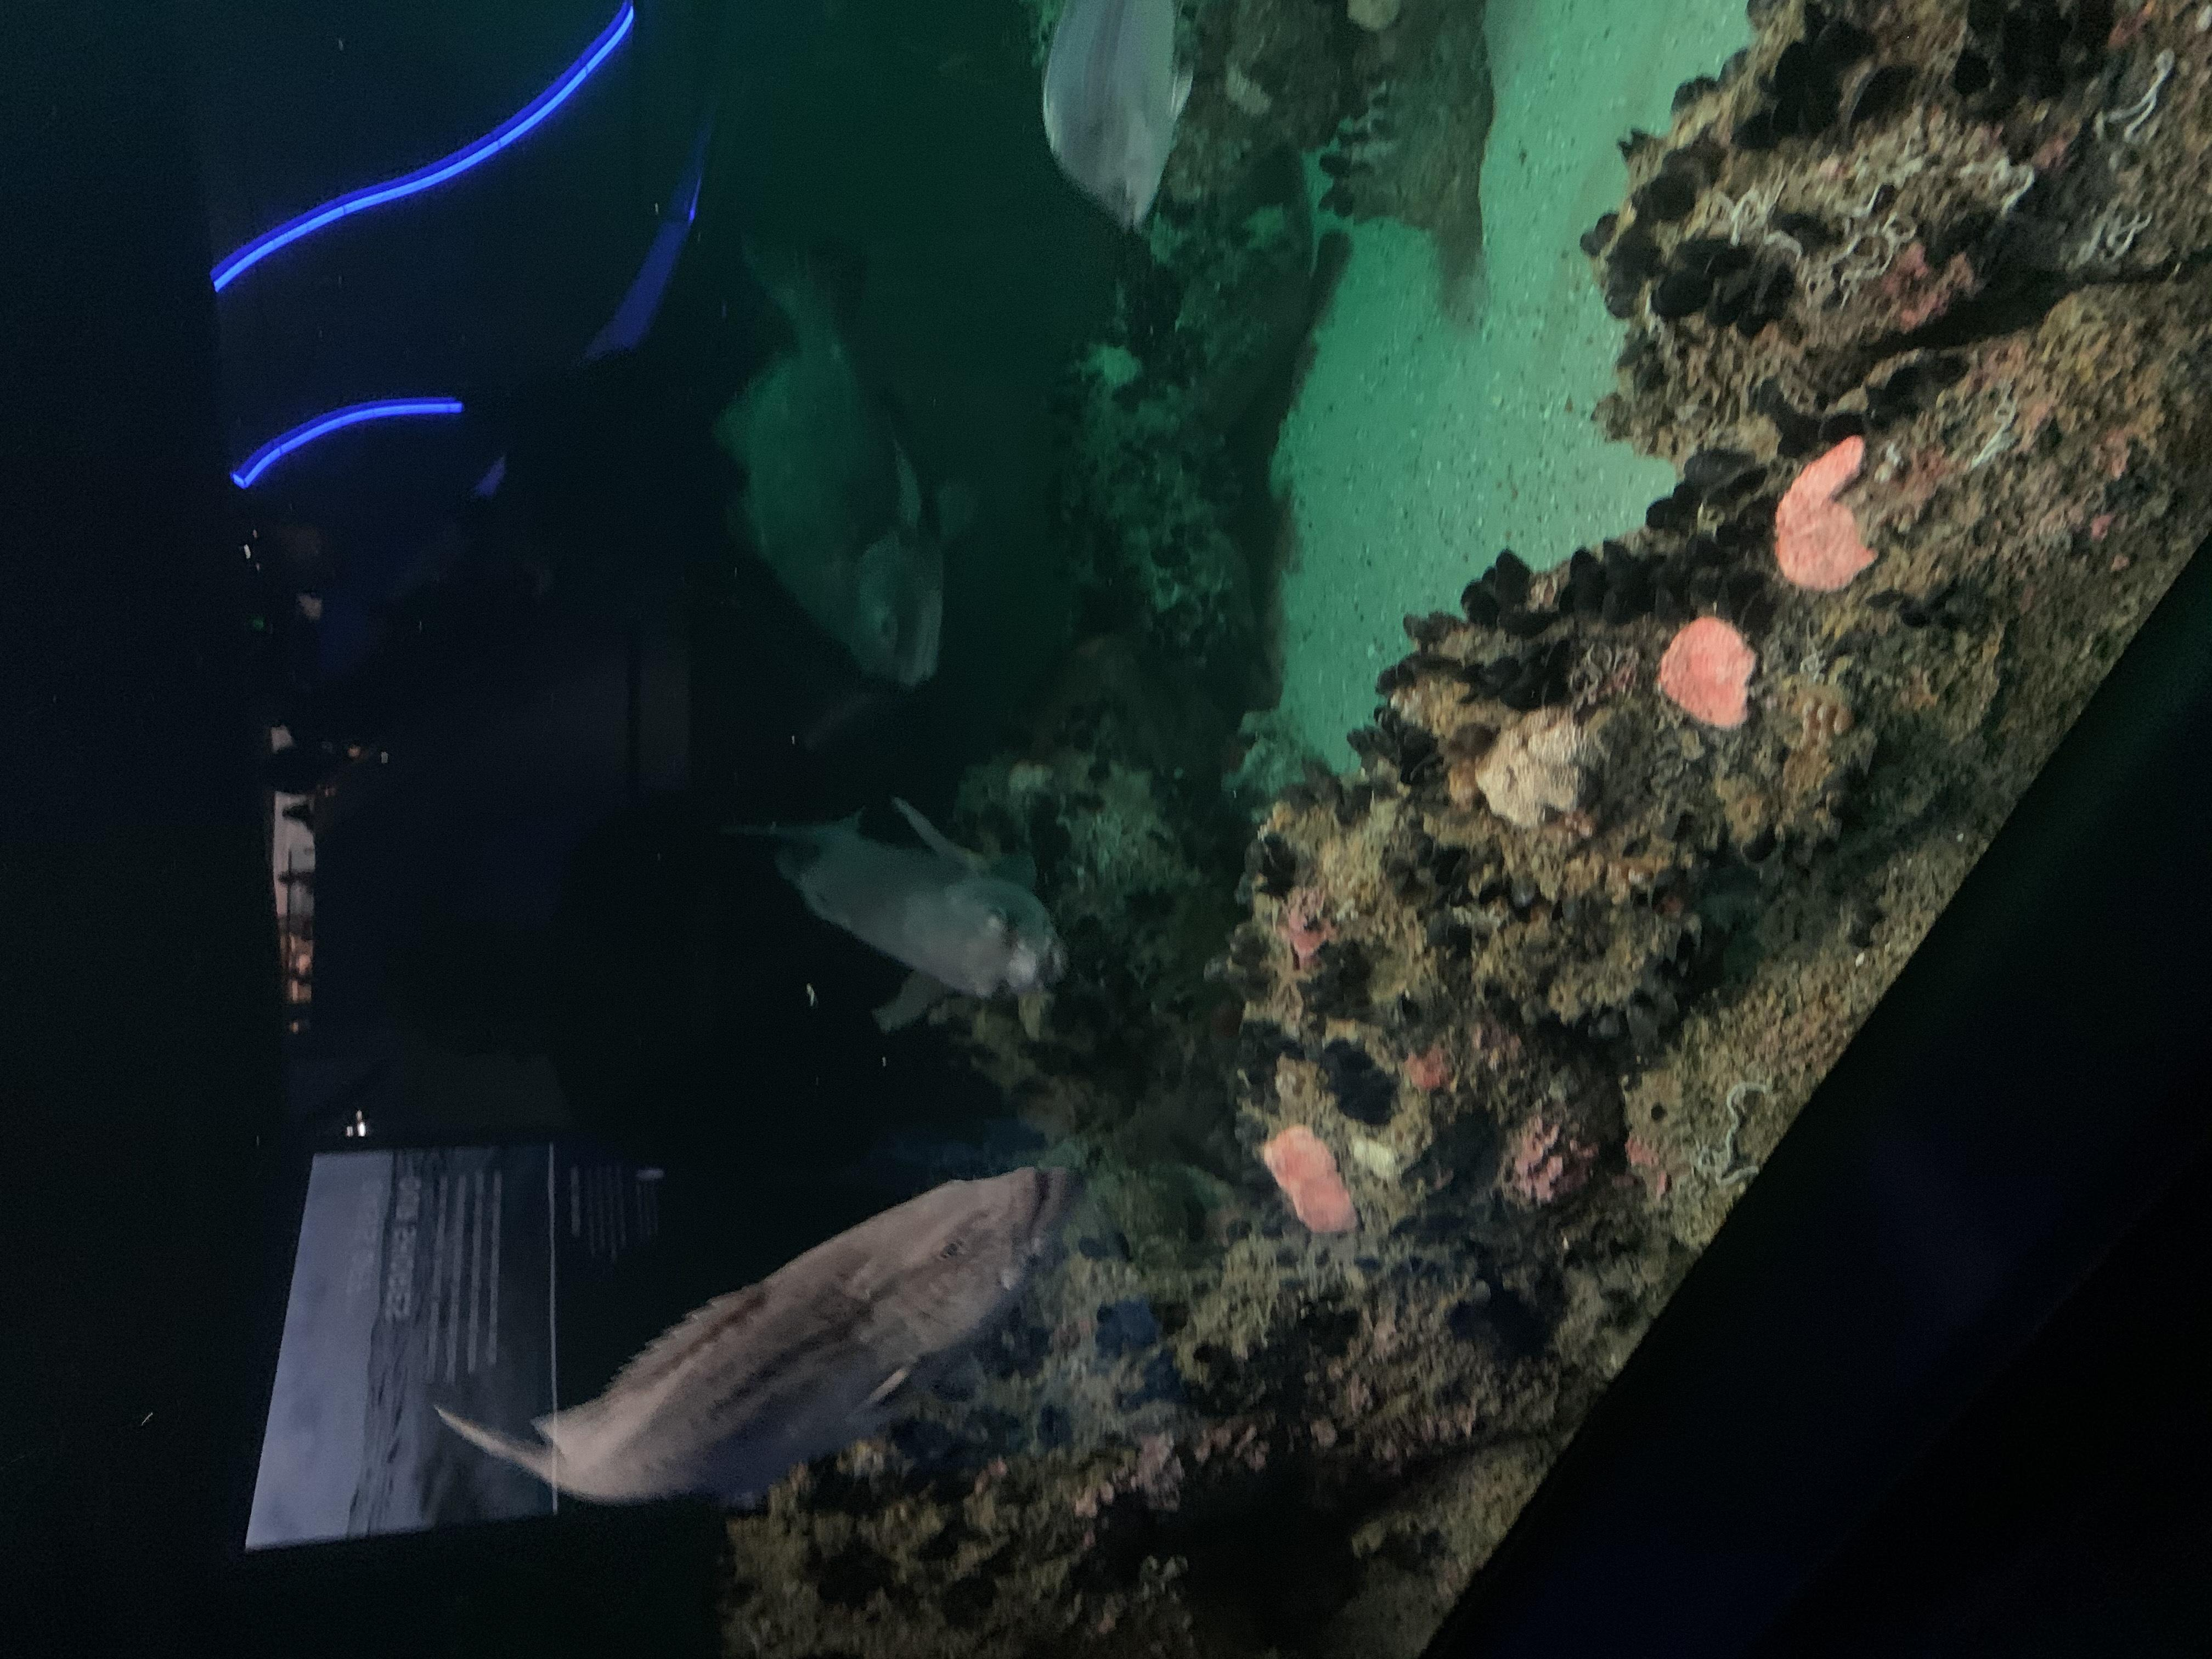fish: (428, 1162, 1080, 1502), (705, 221, 972, 688), (714, 789, 1071, 1030), (1014, 0, 1212, 232)
